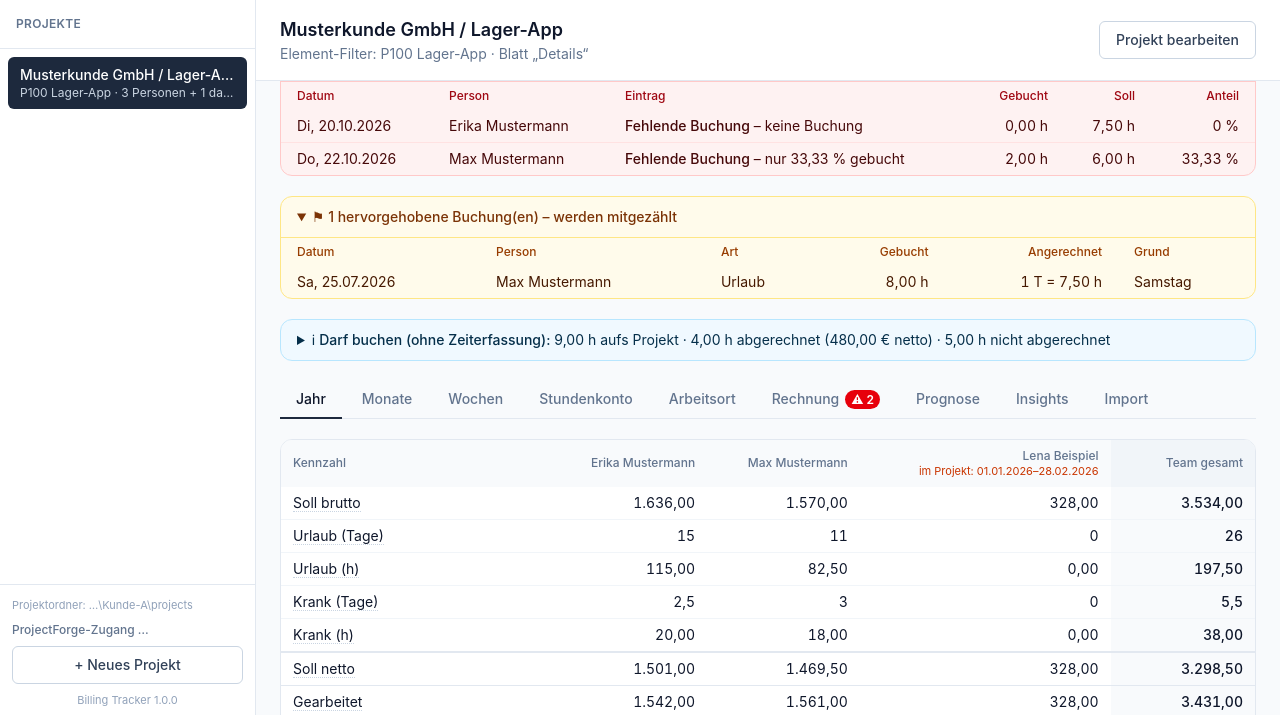
App (Integration mit nachgebildetem Backend) › Prognose zeigt die geplanten Abwesenheiten des Projekts
The width and height of the screenshot is (1280, 715).
(page scrolled)
Expected: the heading "Musterkunde GmbH / Lager-App" is shown, [280,16,588,44]
Click the tab "Prognose" at point(948, 400), box [900,381,996,419]
(page scrolled)
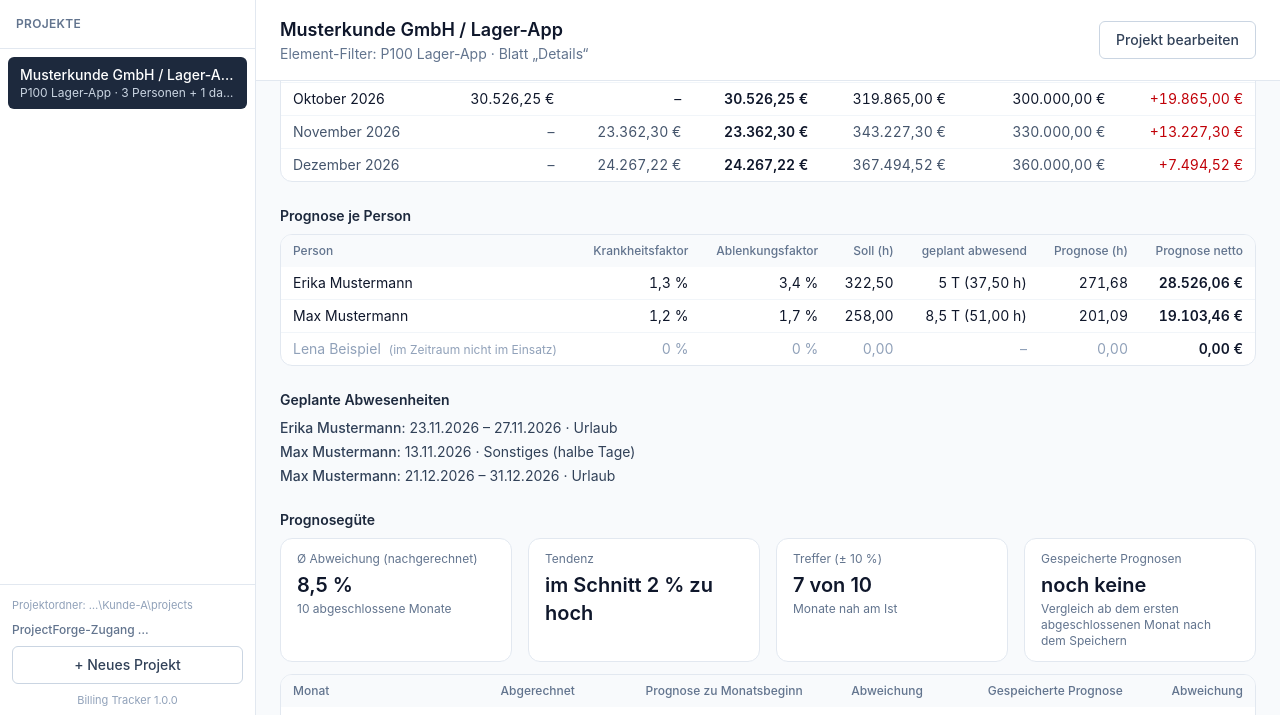
Expected: the heading "Geplante Abwesenheiten" is shown, [280,391,450,408]
Expected: the text "Erika Mustermann: 23.11.2026 – 27.11.2026 · Urlaub" is shown, [280,419,618,436]
